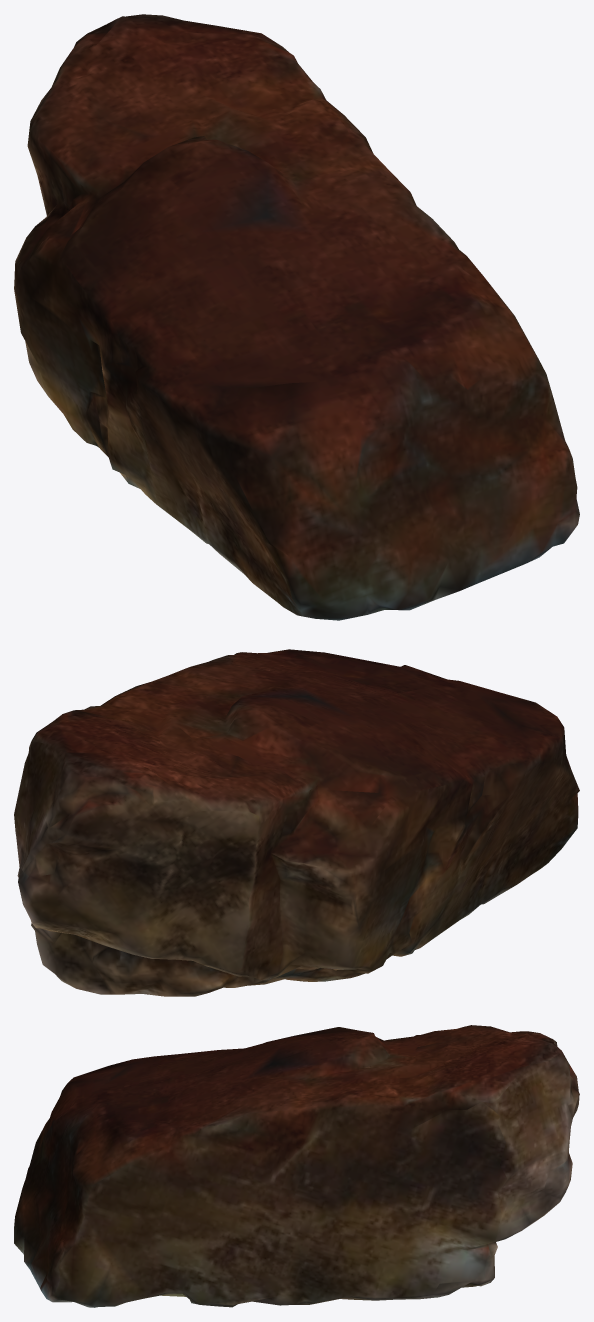
Rendered from rock_07.glb.
3 views of the same model, one above another, from view 1: azimuth 30°, elevation 25°; view 2: azimuth 150°, elevation 25°; view 3: azimuth 270°, elevation 25° (orthographic). The views are drawn at different scales.
Parts seen in each view (by area): view 1: rock_07; view 2: rock_07; view 3: rock_07.
Boxes of the visible parts, x1,y1,x2,y2 form: rock_07: (14, 14, 579, 620); rock_07: (14, 649, 579, 996); rock_07: (14, 1025, 579, 1307).
Bounding box in the file's own units: 0.1686 × 0.1434 × 0.3199.
Materials: 1 (1 with a texture image).
